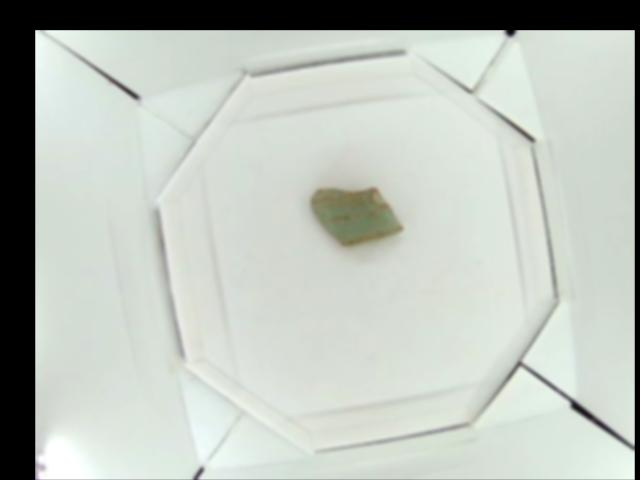China: (309, 181, 404, 249)
